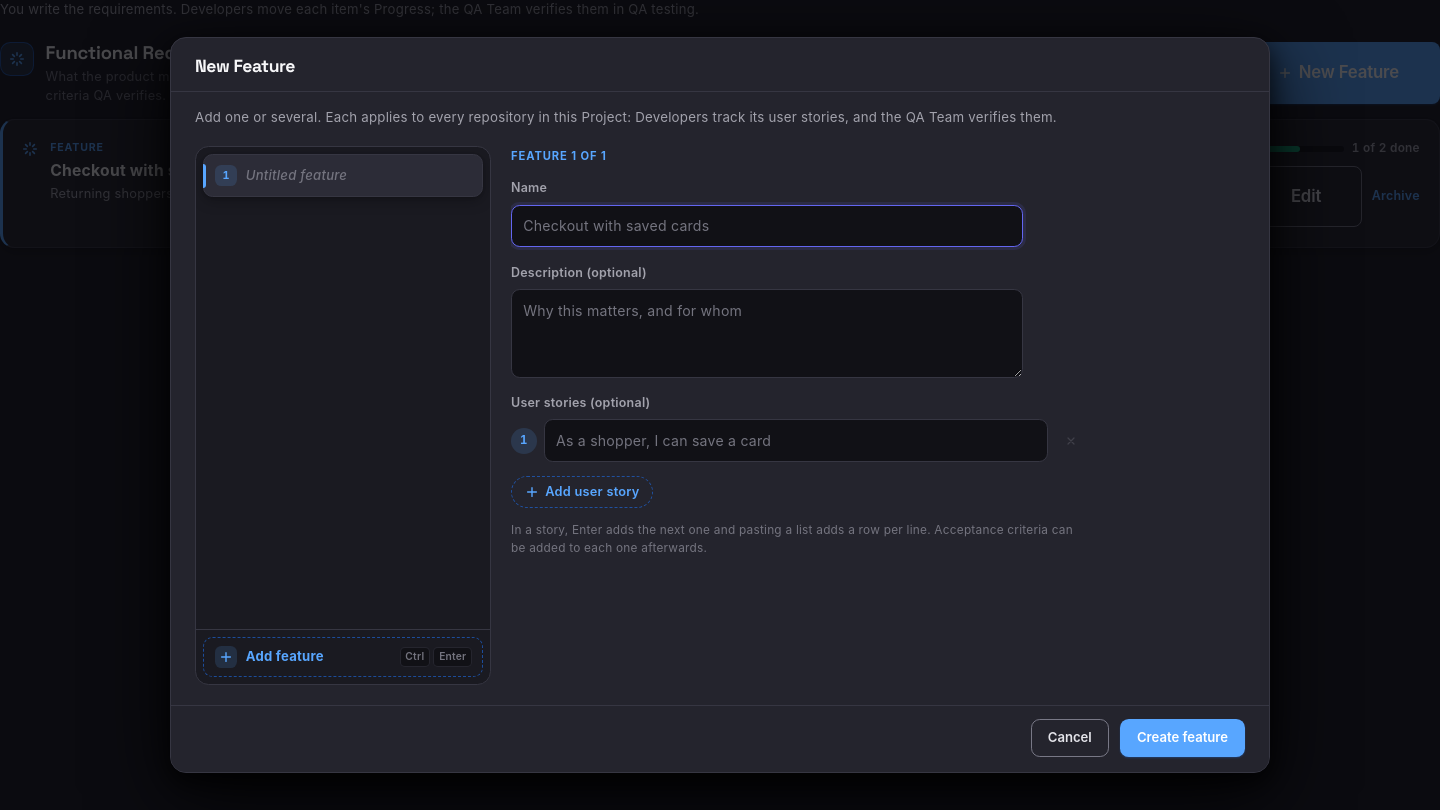
ProjectRequirementsPanel › opens New Feature when the Project asks for it, once, and reports the Feature count
The width and height of the screenshot is (1440, 810).
Expected: the dialog shows "New Feature", [195,55,295,77]
Click the button "Cancel": {"x": 1070, "y": 738} [1031,719,1109,757]
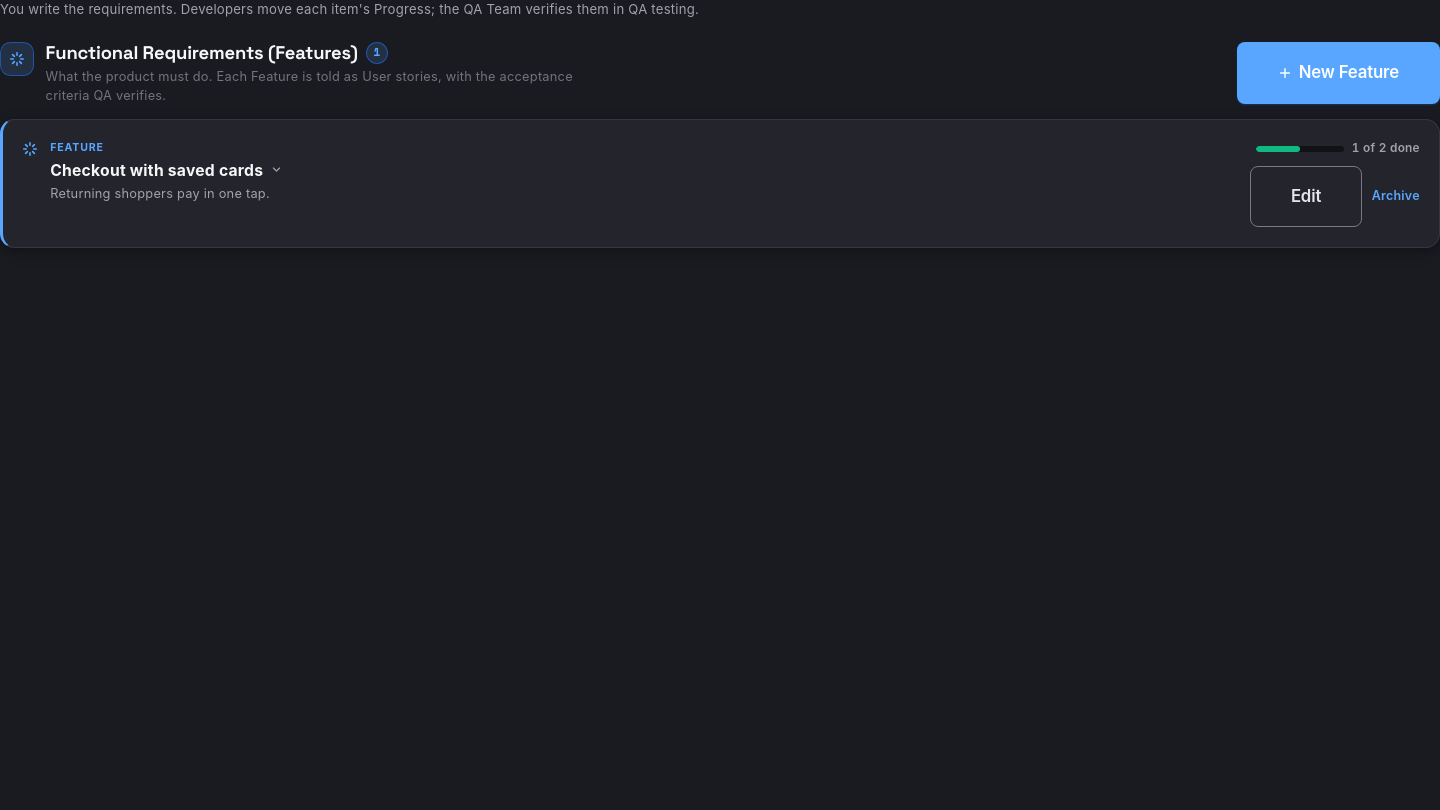
Expected: the element with class "rq-panel" is shown, [0,0,1439,248]
Expected: the element with class "rq-batch" is gone
